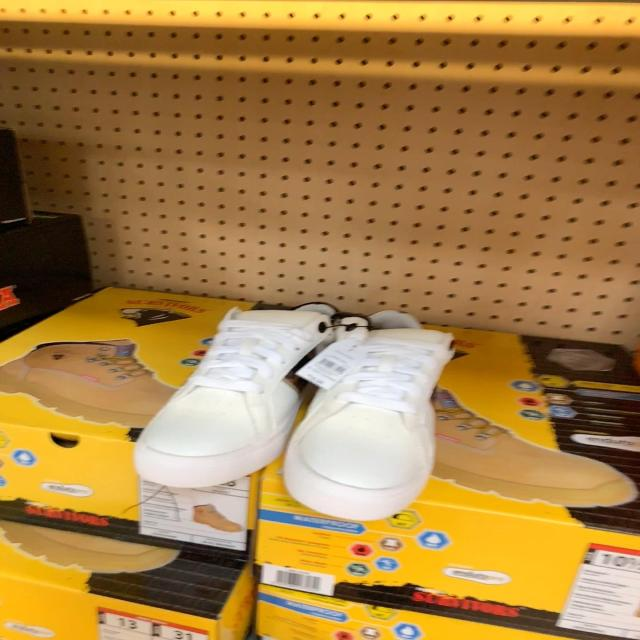shoe: (127, 298, 338, 483), (278, 317, 456, 525)
